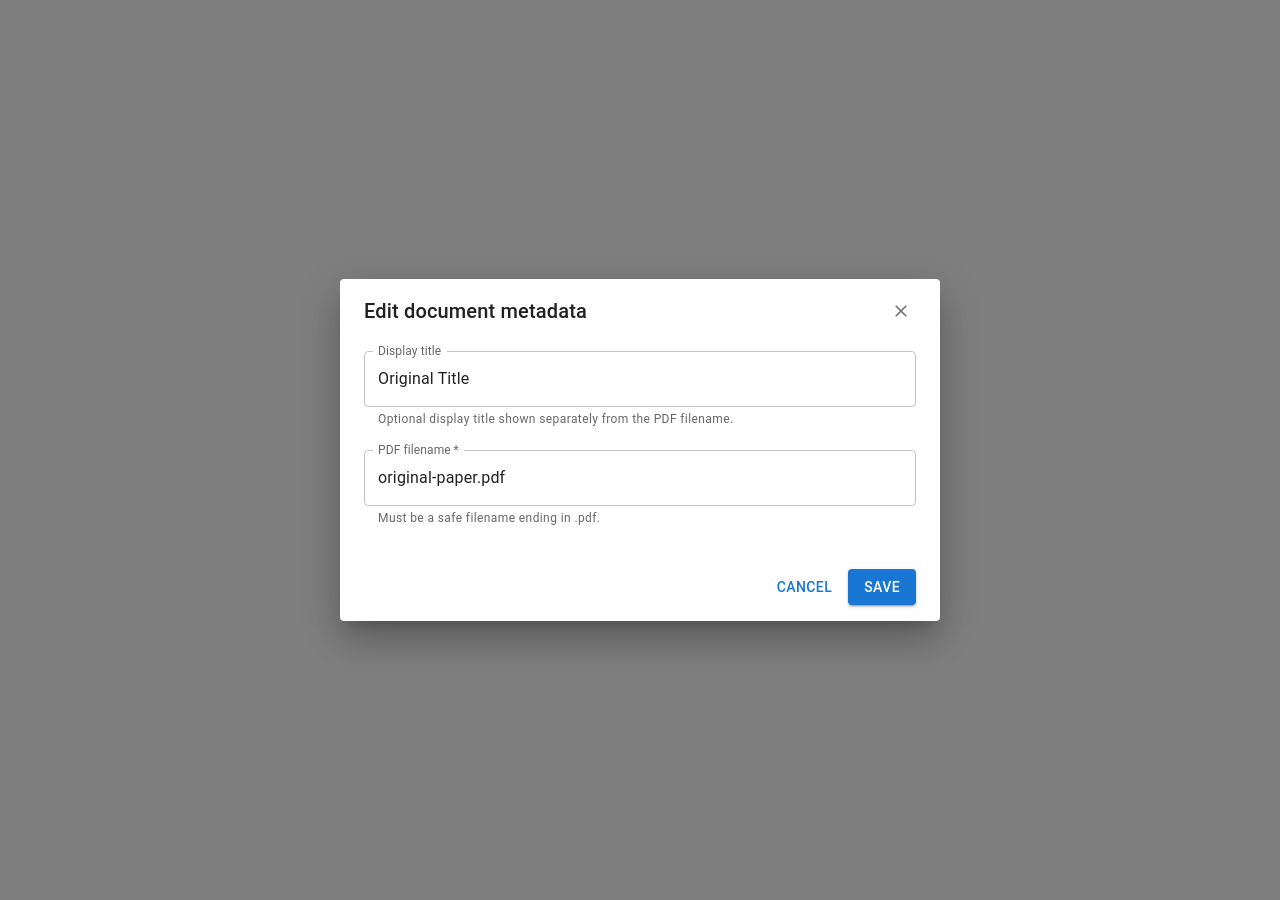
Scenario: EditDocumentDialog › shows loading state while saving
Replace the text in the field labelled "Display title" with "New Title" at [640, 379], box [364,351,916,407]
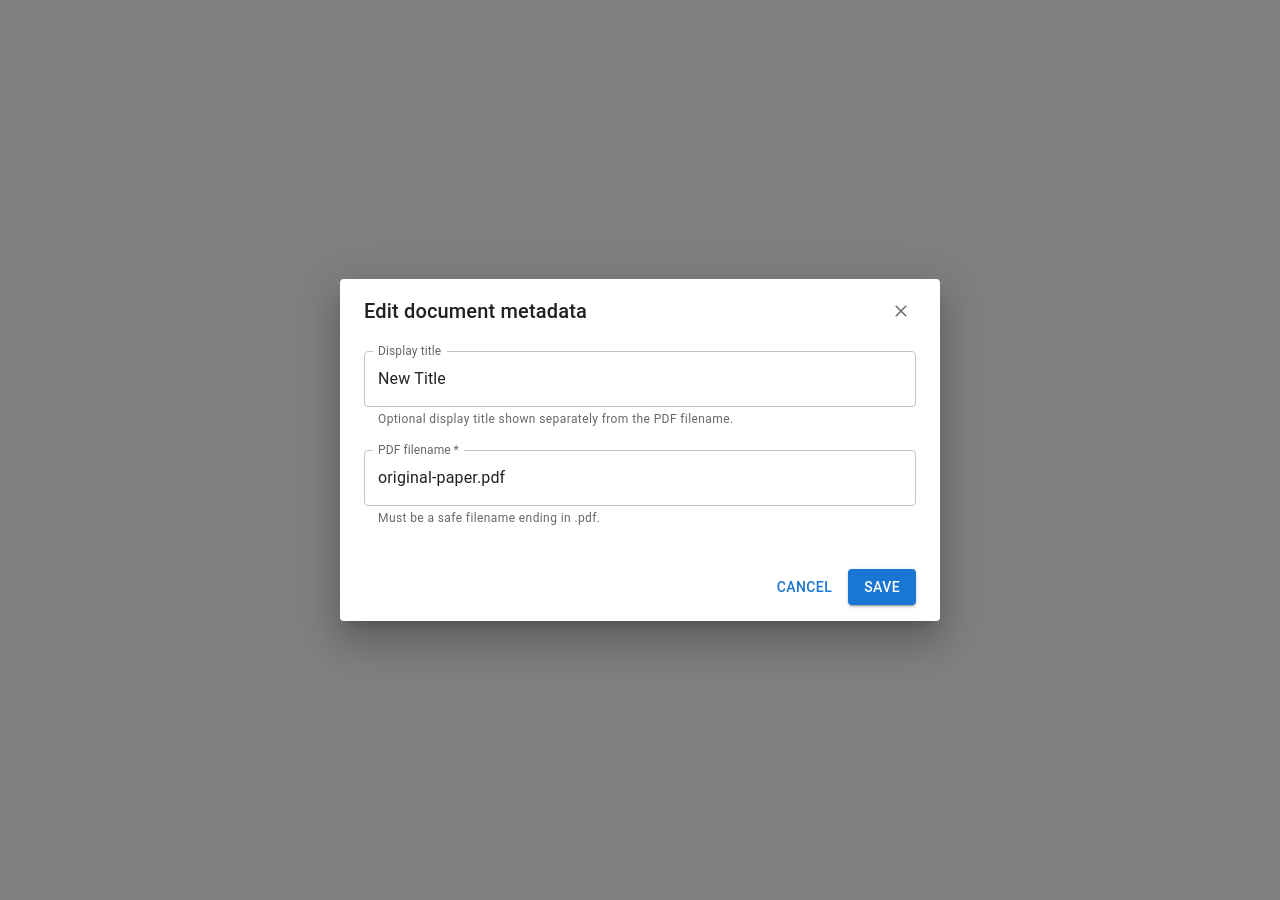
Click the button "Save" at [882, 587], box [848,569,916,605]
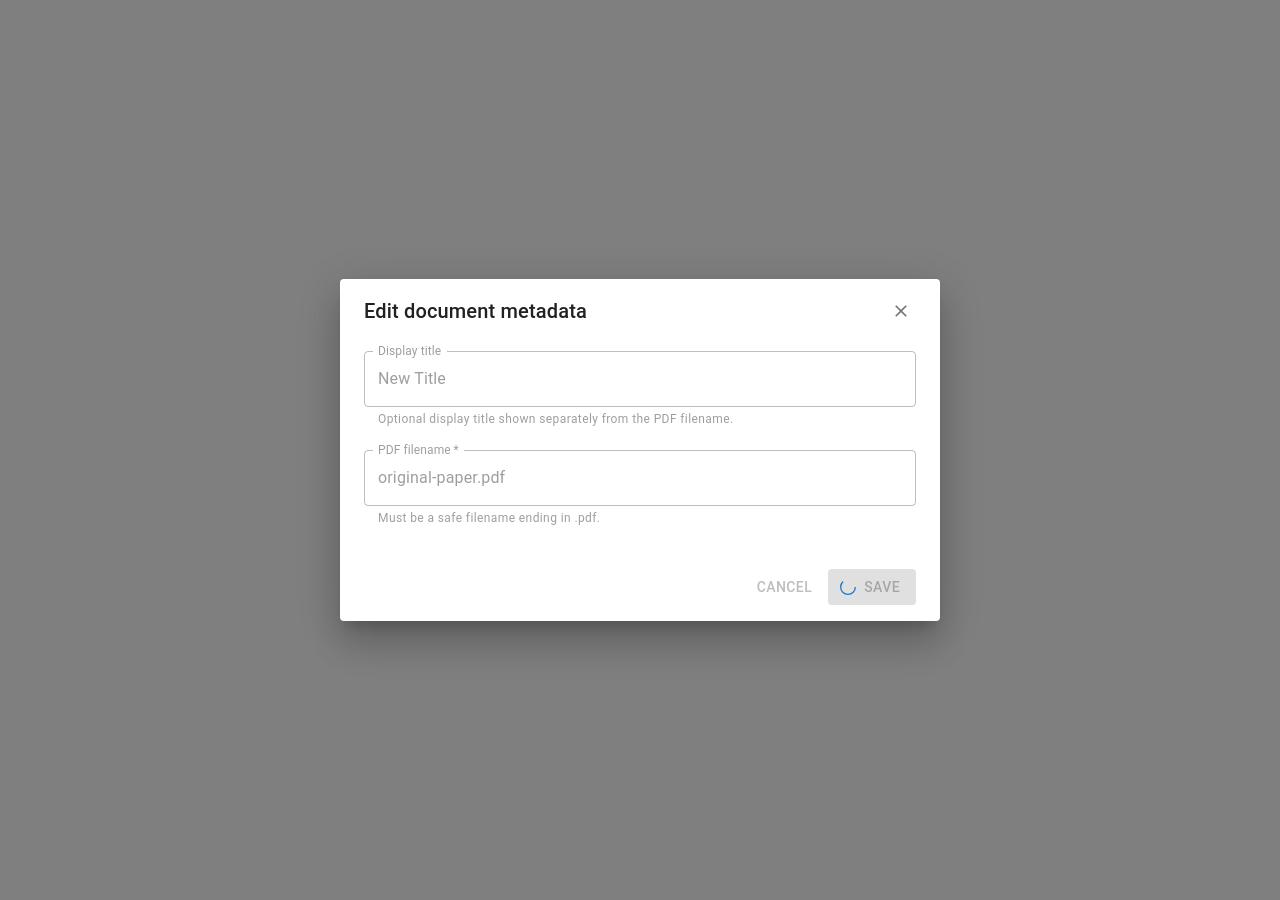
Check: the button "Save" is disabled, box [828,569,916,605]
